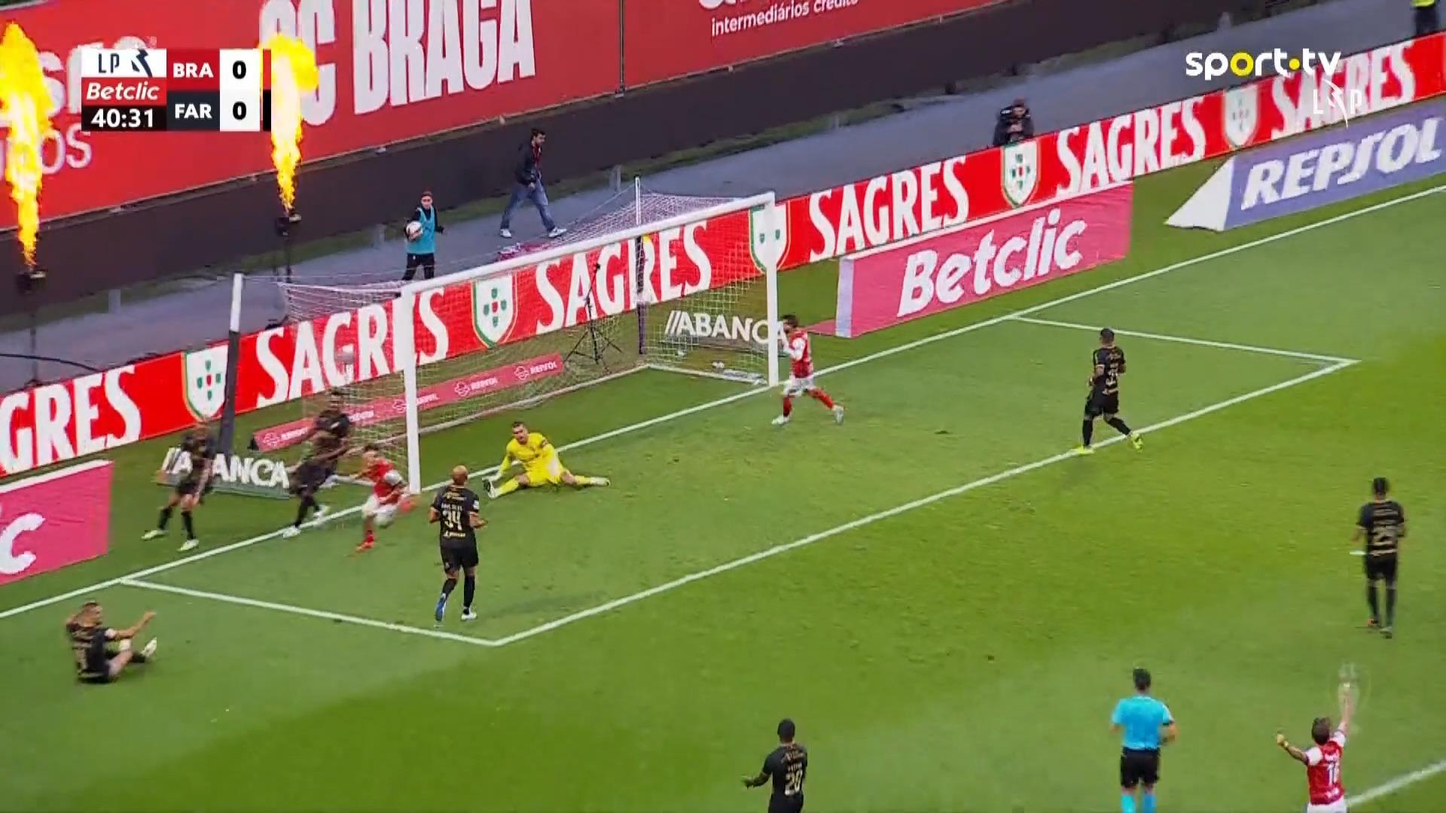ball: (636, 289, 656, 310)
goalkeeper: (481, 419, 612, 500)
player: (1275, 680, 1356, 811), (280, 391, 352, 537), (141, 422, 218, 552), (426, 464, 487, 623), (1349, 475, 1408, 638), (1072, 327, 1143, 454), (770, 312, 845, 427), (63, 598, 158, 684), (348, 443, 415, 552), (741, 717, 808, 811)
referee: (1108, 666, 1177, 811)
